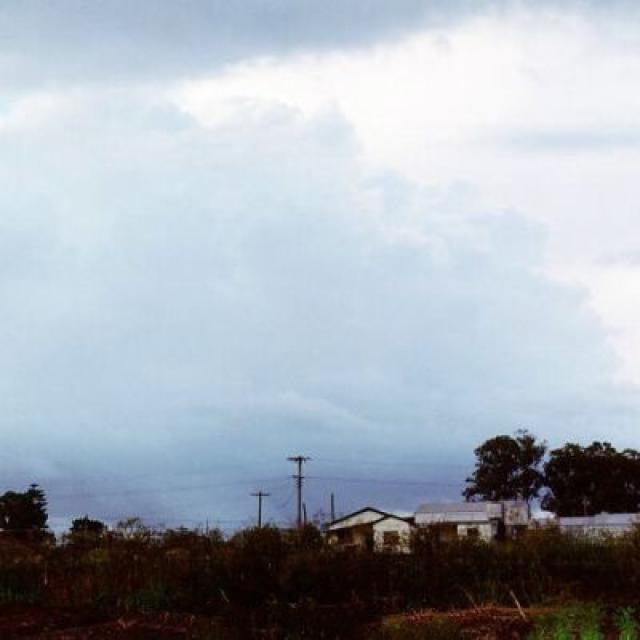Sc: (1, 1, 640, 379)
